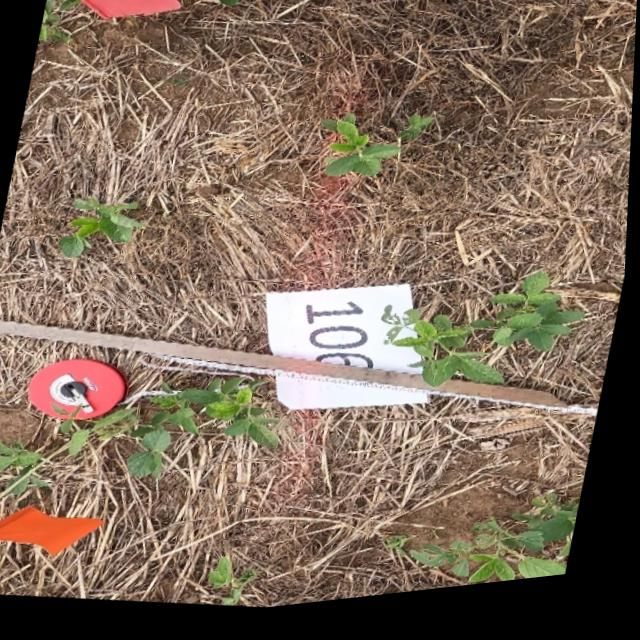soy_plant: (385, 284, 586, 397), (64, 384, 281, 483), (414, 508, 584, 595), (60, 200, 147, 260), (323, 123, 401, 185), (0, 443, 53, 495), (214, 563, 261, 612), (39, 1, 65, 42), (400, 124, 434, 150), (216, 0, 242, 11)
